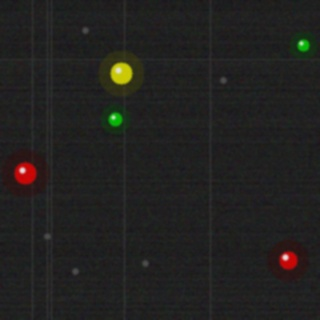green_normal: (106, 110, 124, 128), (295, 37, 311, 53)
red_fault: (12, 160, 38, 186), (277, 249, 299, 271)
yellow_warning: (108, 60, 134, 86)
